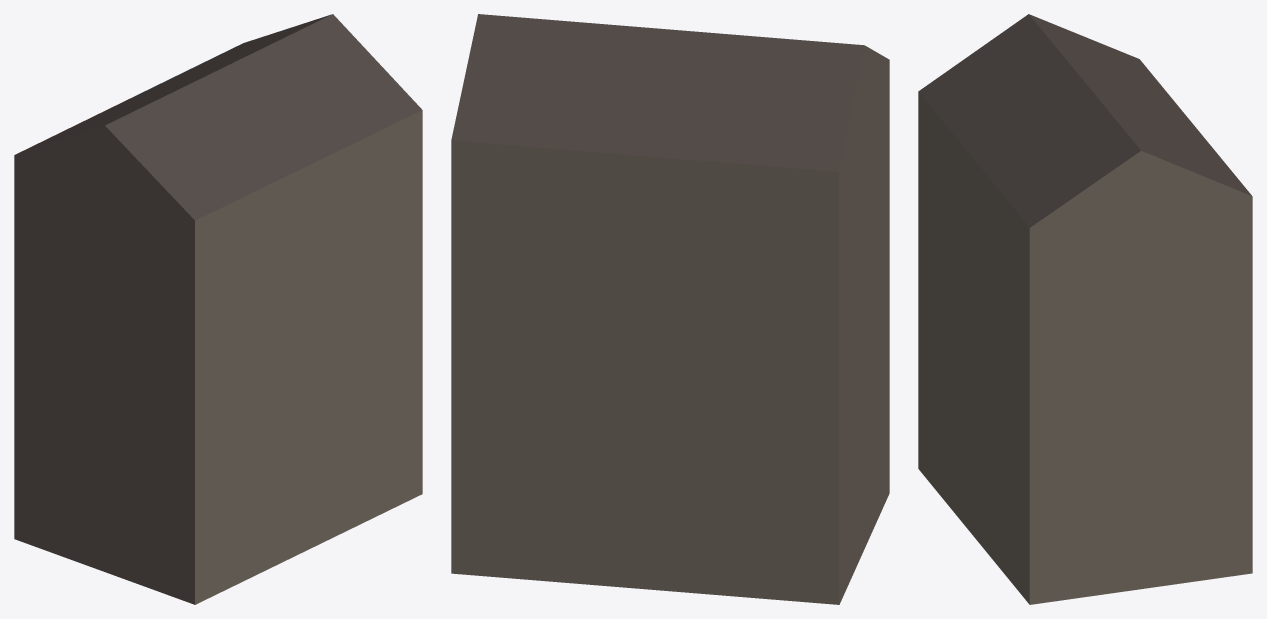
3 views of the same model, side by side, from view 1: azimuth 30°, elevation 25°; view 2: azimuth 150°, elevation 25°; view 3: azimuth 270°, elevation 25° (orthographic). The views are drawn at different scales.
Parts seen in each view (by area): view 1: HP-w1198645043; view 2: HP-w1198645043; view 3: HP-w1198645043.
Part boxes in pixels (x1,y1,x2,y2): HP-w1198645043: (14, 14, 422, 604); HP-w1198645043: (451, 14, 889, 604); HP-w1198645043: (918, 14, 1252, 604).
Size of the model in its own units: 5.76 by 6.98 by 4.82.
